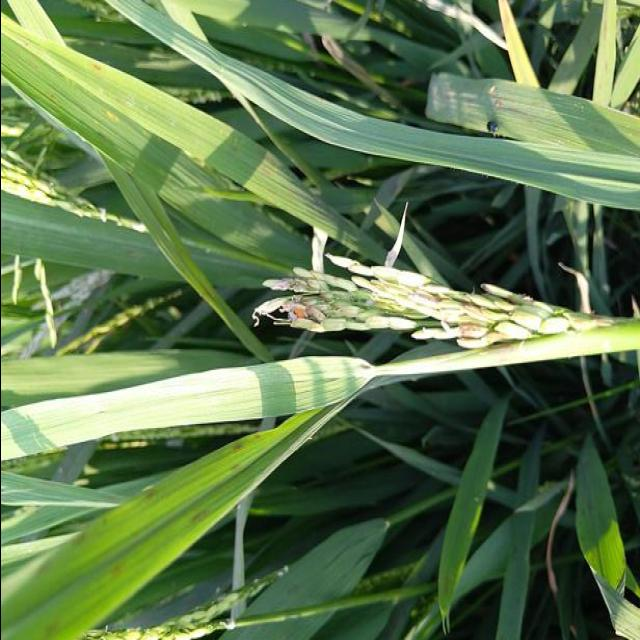Panicle Blight: (426, 287, 549, 348), (254, 267, 365, 332)
